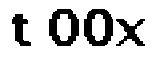0: (44, 5, 79, 47), (81, 5, 114, 49)
t: (9, 9, 36, 50)
x: (114, 14, 149, 49)
